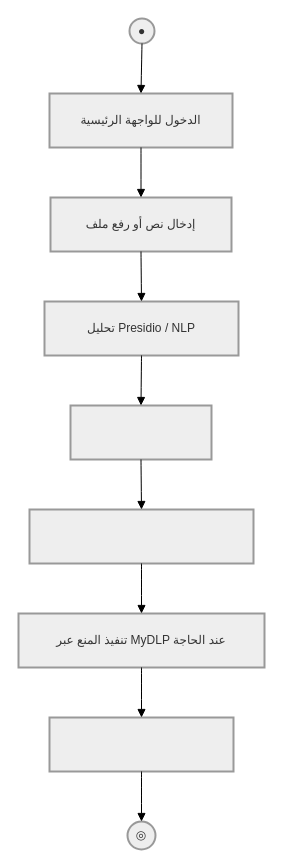
This 282x867 diagram has some shape labels left out. The box of each missing label's shape, as (x1, y1, x2, y2) in pixels:
Block / Alert / Encrypt: (28, 508, 254, 564)
تطبيق السياسات: (69, 404, 212, 460)
عرض النتائج والتنبيهات: (48, 716, 234, 772)
